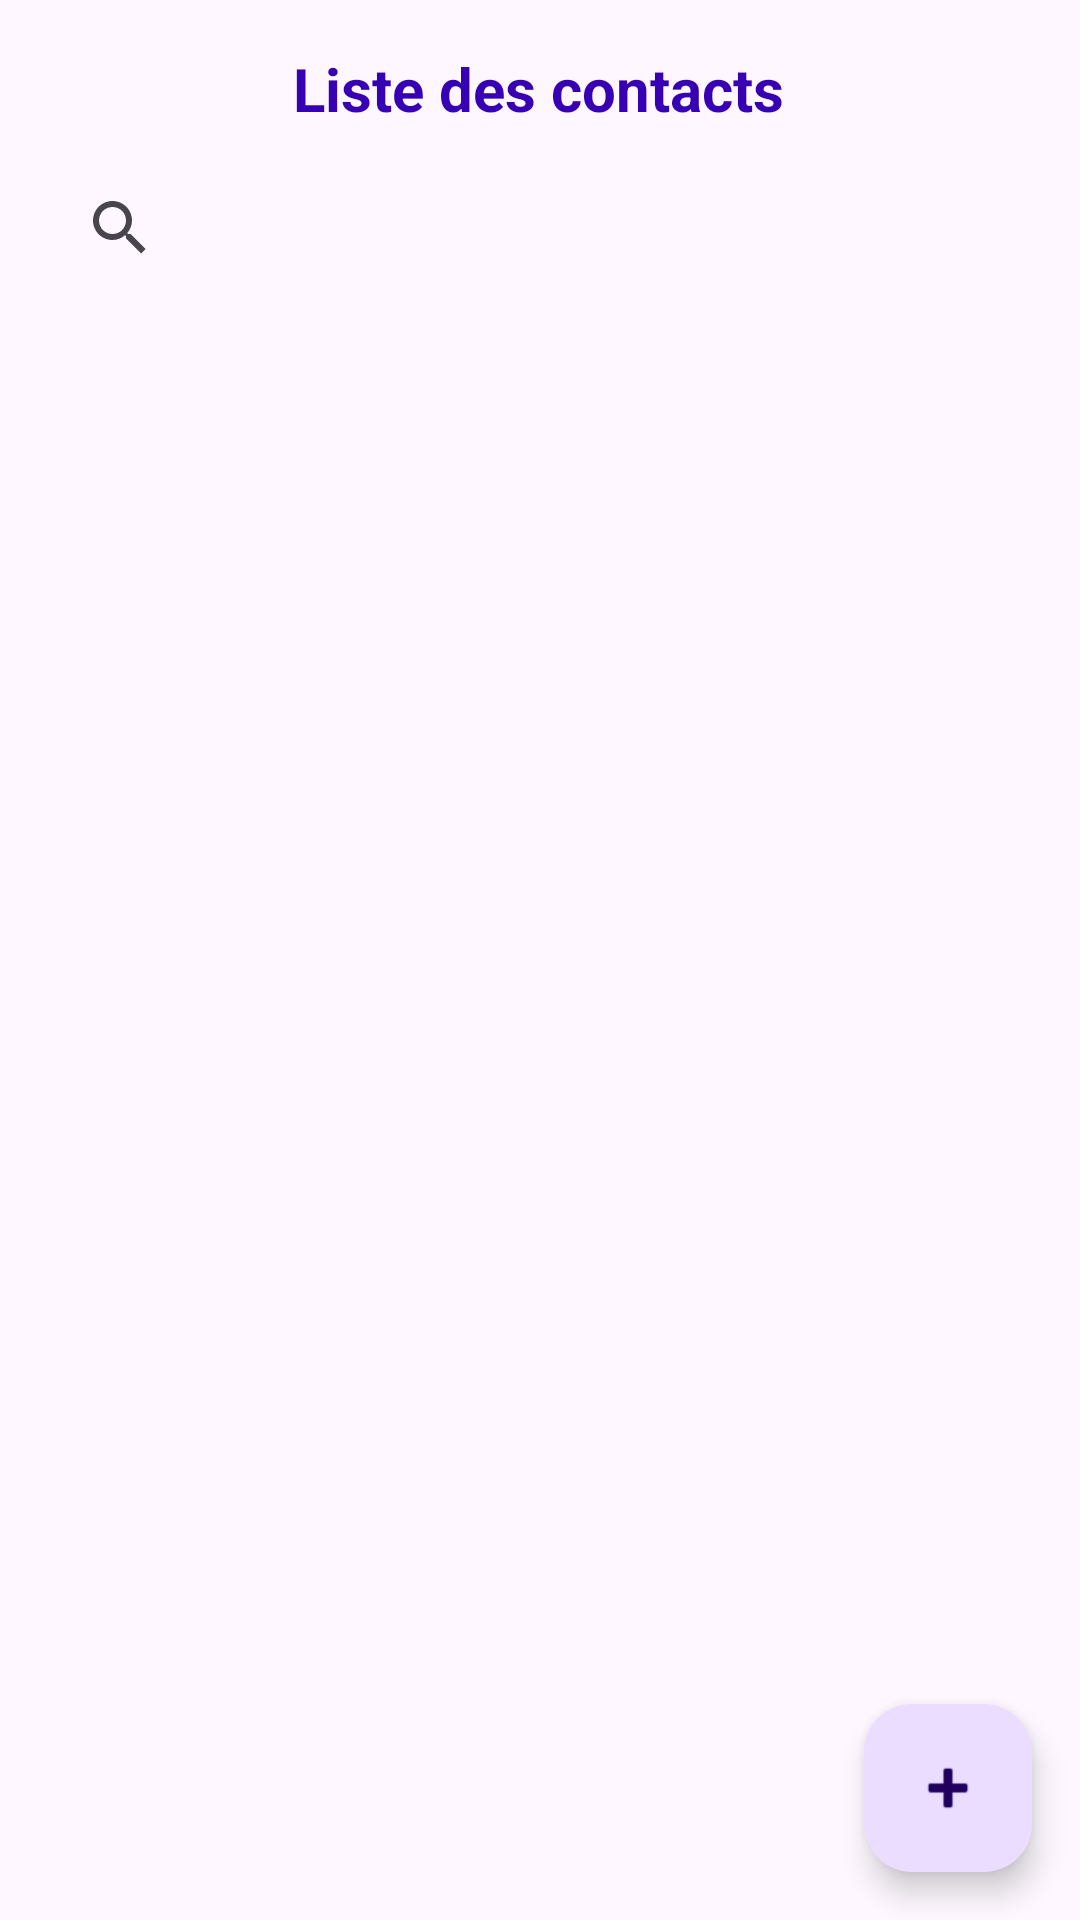

Named icons in this screenshot (1080px x 1920px) and their centers, (x=x, y=y):
Ajouter Contact: (x=948, y=1788)
